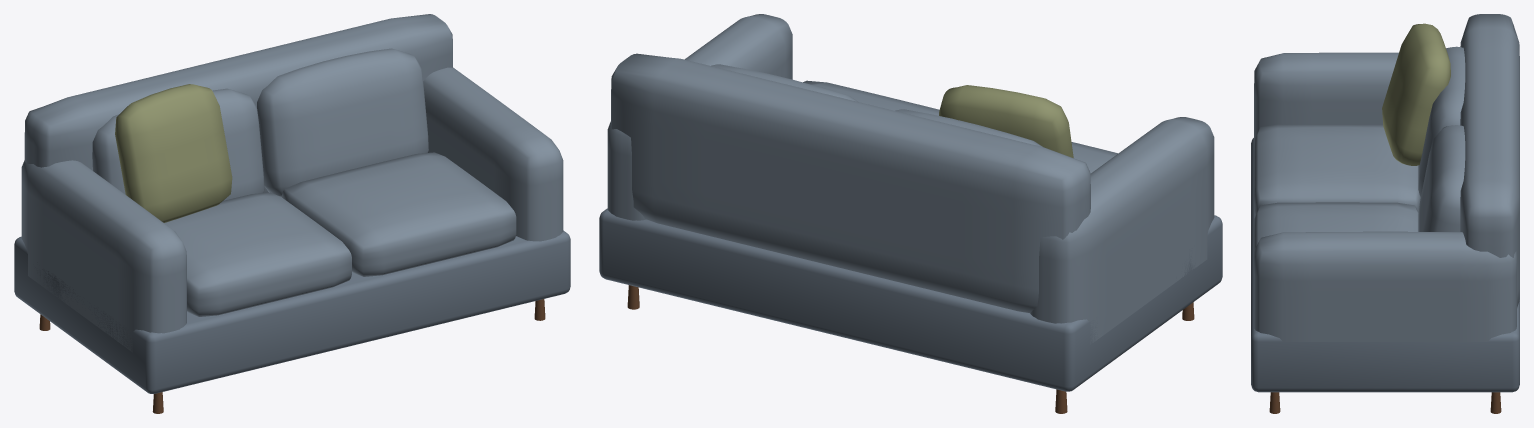
The model's file is sofa_2.glb.
3 views of the same model, side by side, from view 1: azimuth 30°, elevation 25°; view 2: azimuth 150°, elevation 25°; view 3: azimuth 270°, elevation 25° (orthographic). The views are drawn at different scales.
Parts seen in each view (by area): view 1: box, soft, soft.006, soft.005, soft.002, soft.004, soft.001, soft.007, soft.003; view 2: soft.002, box, soft, soft.001, soft.007, soft.006, soft.005, soft.003, soft.004; view 3: soft.001, box, soft.002, soft.004, soft, soft.007, soft.006, soft.005, soft.003.
Boxes of the visible parts, x1=… form: box: x1=14, y1=230, x2=570, y2=393; soft: x1=21, y1=160, x2=186, y2=352; soft.006: x1=282, y1=152, x2=516, y2=276; soft.005: x1=257, y1=48, x2=428, y2=197; soft.002: x1=24, y1=14, x2=452, y2=192; soft.004: x1=164, y1=192, x2=351, y2=316; soft.001: x1=423, y1=67, x2=563, y2=241; soft.007: x1=115, y1=84, x2=232, y2=222; soft.003: x1=92, y1=88, x2=264, y2=200; soft.002: x1=611, y1=53, x2=1090, y2=312; box: x1=599, y1=208, x2=1222, y2=391; soft: x1=1030, y1=117, x2=1214, y2=344; soft.001: x1=607, y1=14, x2=792, y2=220; soft.007: x1=939, y1=85, x2=1073, y2=157; soft.006: x1=803, y1=80, x2=939, y2=115; soft.005: x1=711, y1=64, x2=858, y2=101; soft.003: x1=895, y1=109, x2=1042, y2=146; soft.004: x1=1071, y1=142, x2=1117, y2=173; soft.001: x1=1254, y1=231, x2=1516, y2=341; box: x1=1251, y1=138, x2=1519, y2=392; soft.002: x1=1460, y1=14, x2=1519, y2=307; soft.004: x1=1254, y1=124, x2=1420, y2=215; soft: x1=1254, y1=52, x2=1398, y2=143; soft.007: x1=1382, y1=23, x2=1450, y2=165; soft.006: x1=1254, y1=202, x2=1418, y2=261; soft.005: x1=1418, y1=125, x2=1465, y2=231; soft.003: x1=1418, y1=46, x2=1465, y2=197.
Size of the model in its own units: 160 by 86.47 by 90.
